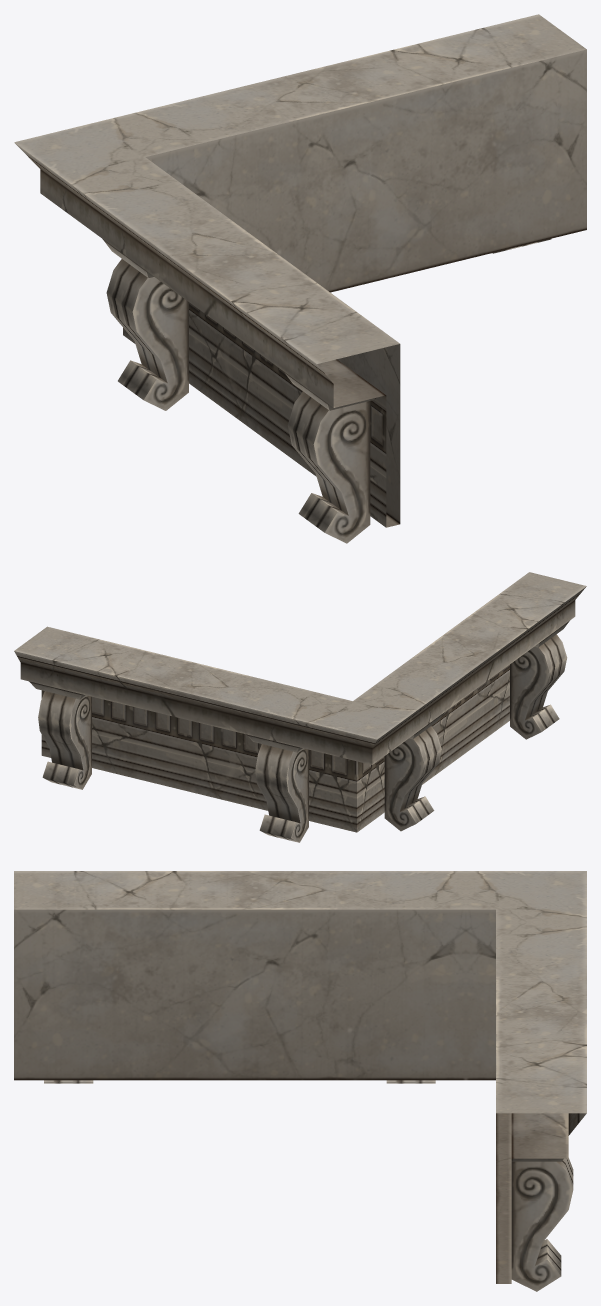
Rendered from cornice02_corner.fbx.
3 renders of one model, top to bottom at view 1: azimuth 30°, elevation 25°; view 2: azimuth 150°, elevation 25°; view 3: azimuth 270°, elevation 25°, orthographic. The views are drawn at different scales.
Parts seen in each view (by area): view 1: cornice02_corner; view 2: cornice02_corner; view 3: cornice02_corner.
Part boxes in pixels (left/top/right/bottom): cornice02_corner: left=14, top=14, right=586, bottom=543; cornice02_corner: left=14, top=572, right=586, bottom=842; cornice02_corner: left=14, top=871, right=586, bottom=1291.
Size of the model in its own units: 380 by 140 by 380.
